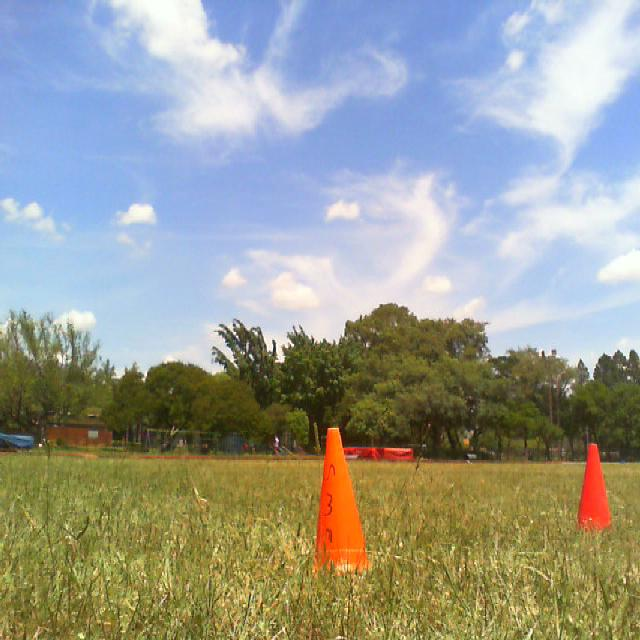cone: (316, 428, 367, 567), (577, 443, 612, 525)
